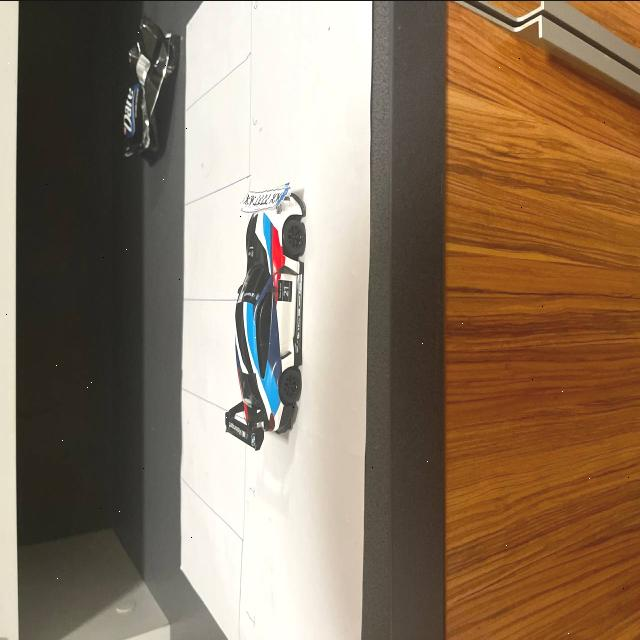KX 7777 KX: (240, 185, 292, 209)
